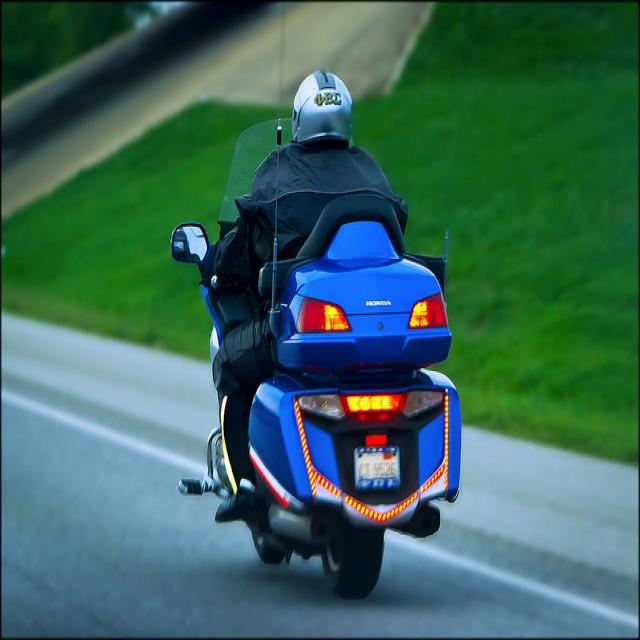motor: (223, 223, 459, 596)
